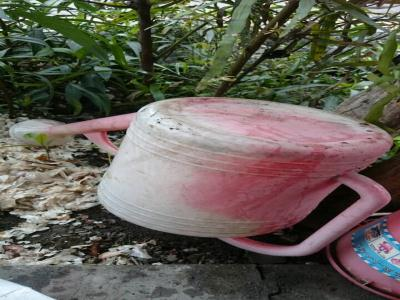bowl: (97, 97, 393, 241)
